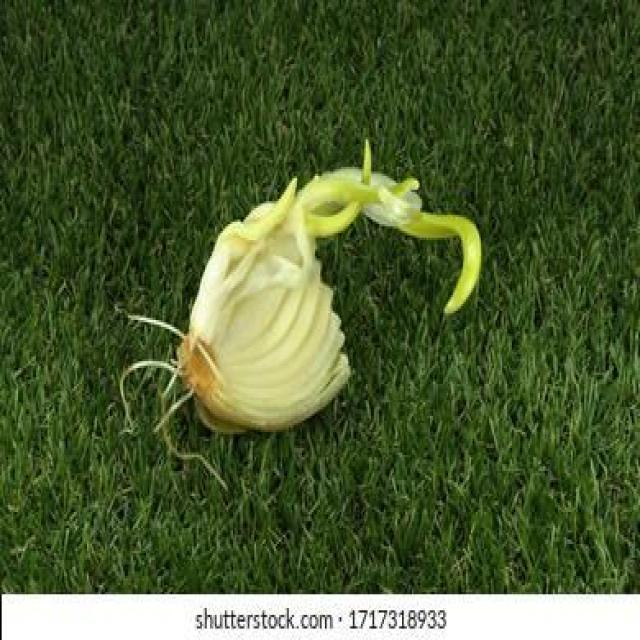Onion: (119, 191, 352, 490), (223, 136, 483, 314)
